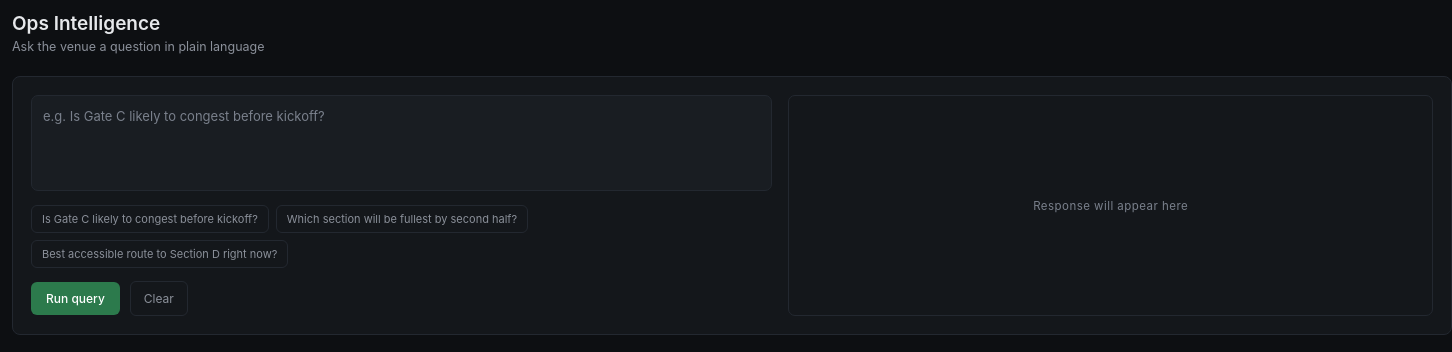
Scenario: Smart Stadium Application - Edge Cases › OpsDashboard: handles network error / timeout gracefully
The width and height of the screenshot is (1452, 352).
Type "Status of Gate B?" into the text box with placeholder "e.g. Is Gate C likely to congest before kickoff?" at [402, 143], box x1=31 y1=95 x2=772 y2=191
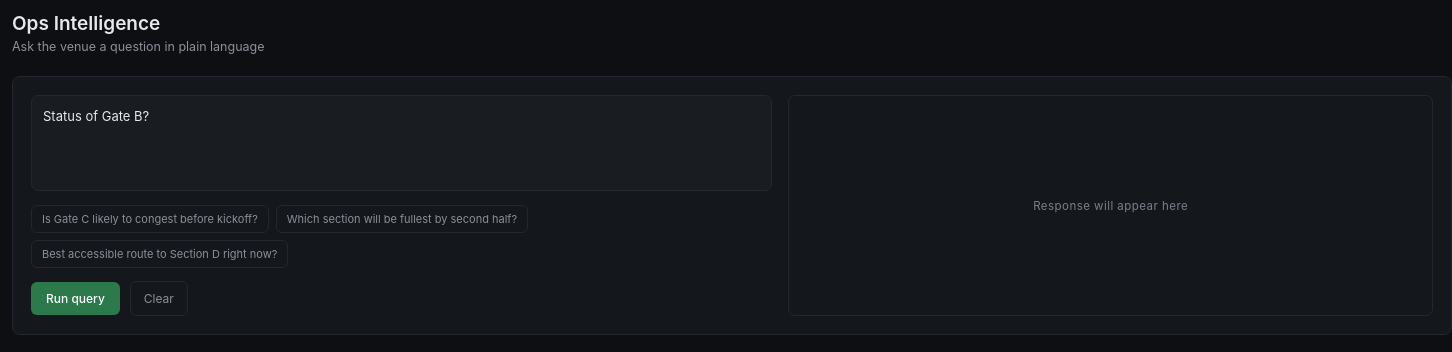
Click the button "Run query" at [75, 298], box x1=31 y1=282 x2=120 y2=315
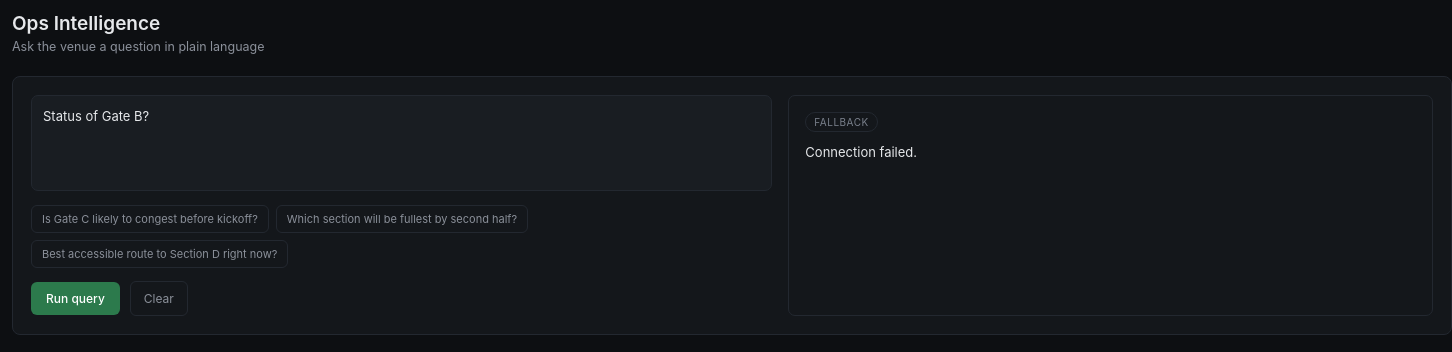
Result: the text "Connection failed." is shown at x1=805 y1=144 x2=917 y2=160
